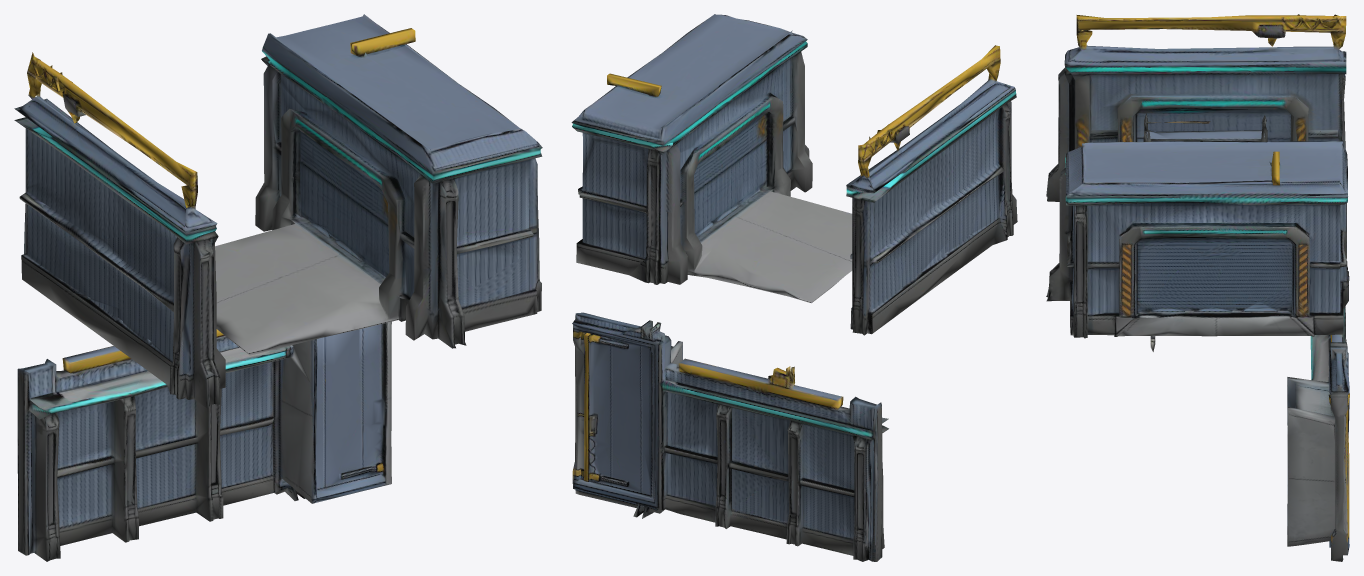
The model's file is Factory.glb.
The picture shows the model from 3 angles, left to right: view 1: azimuth 30°, elevation 25°; view 2: azimuth 150°, elevation 25°; view 3: azimuth 270°, elevation 25°; orthographic projection. The views are drawn at different scales.
Parts seen in each view (by area): view 1: tripo_node_6390beb6-f8f8-4c42-944a-b1e9298d012a; view 2: tripo_node_6390beb6-f8f8-4c42-944a-b1e9298d012a; view 3: tripo_node_6390beb6-f8f8-4c42-944a-b1e9298d012a.
Part boxes in pixels (x1,y1,x2,y2): tripo_node_6390beb6-f8f8-4c42-944a-b1e9298d012a: (14,14,542,561); tripo_node_6390beb6-f8f8-4c42-944a-b1e9298d012a: (571,14,1017,561); tripo_node_6390beb6-f8f8-4c42-944a-b1e9298d012a: (1046,14,1349,561).
Bounding box in the file's own units: 0.7553 × 1 × 0.6615.
Materials: 1 (1 with a texture image).
